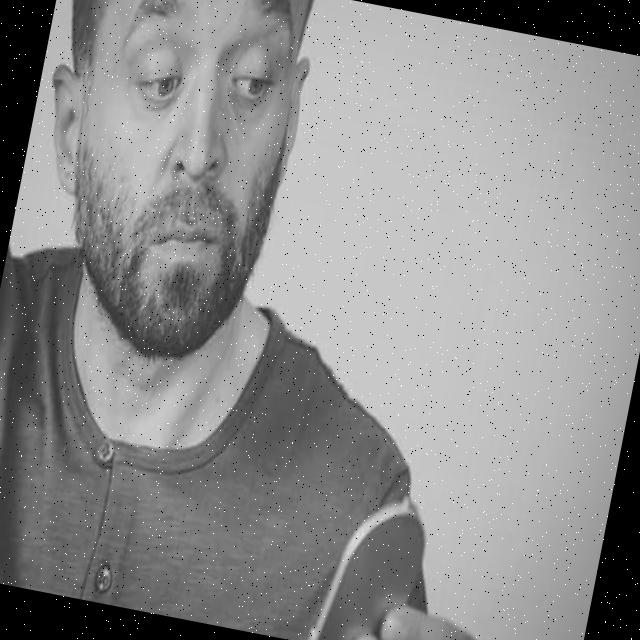Sadness: (45, 0, 307, 369)
